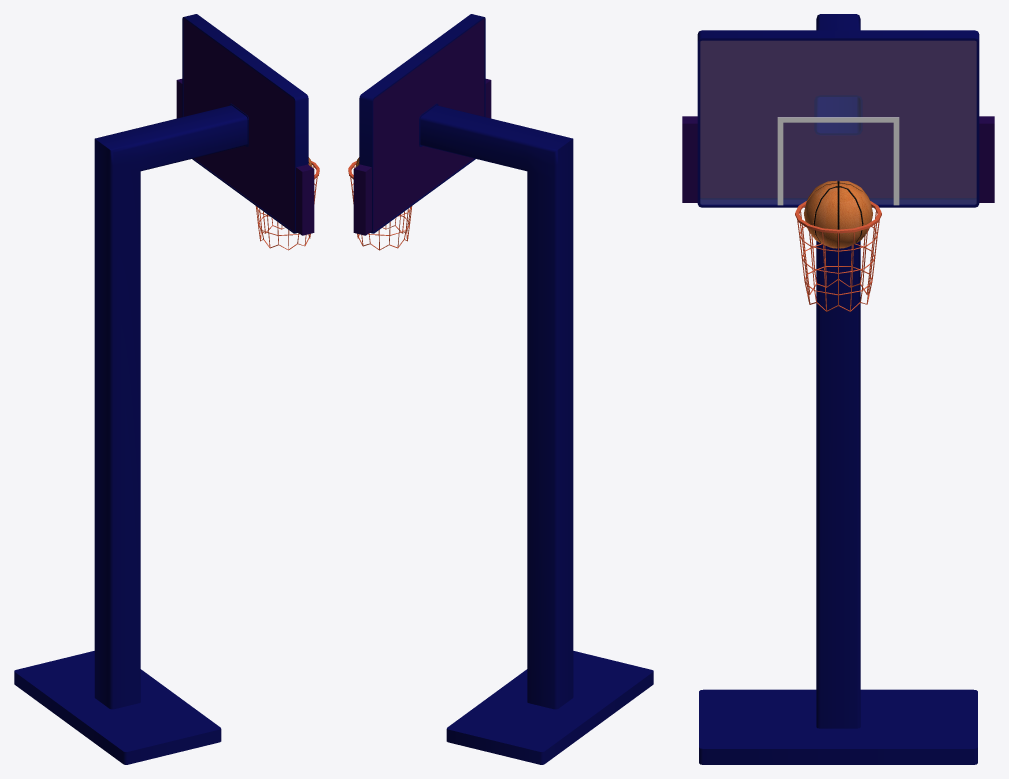
Rendered from basketball1.gltf.
The picture shows the model from 3 angles, left to right: view 1: azimuth 30°, elevation 25°; view 2: azimuth 150°, elevation 25°; view 3: azimuth 270°, elevation 25°; orthographic projection. The views are drawn at different scales.
Parts seen in each view (by area): view 1: goal; view 2: goal; view 3: goal, ball.
Boxes of the visible parts, <box> form: goal: <box>14,14,319,764</box>; goal: <box>348,14,653,764</box>; goal: <box>682,14,994,764</box>; ball: <box>804,180,872,248</box>.
Size of the model in its own units: 0.4 by 0.9706 by 0.353.
Materials: 7 (1 with a texture image).
